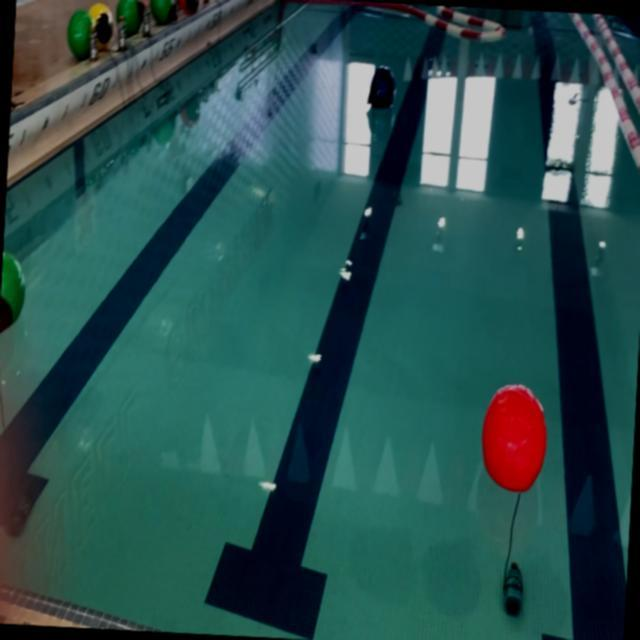buoy: (478, 381, 550, 496), (0, 247, 28, 337), (368, 64, 395, 110)
